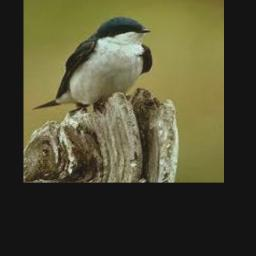Swallow: (34, 17, 152, 111)
